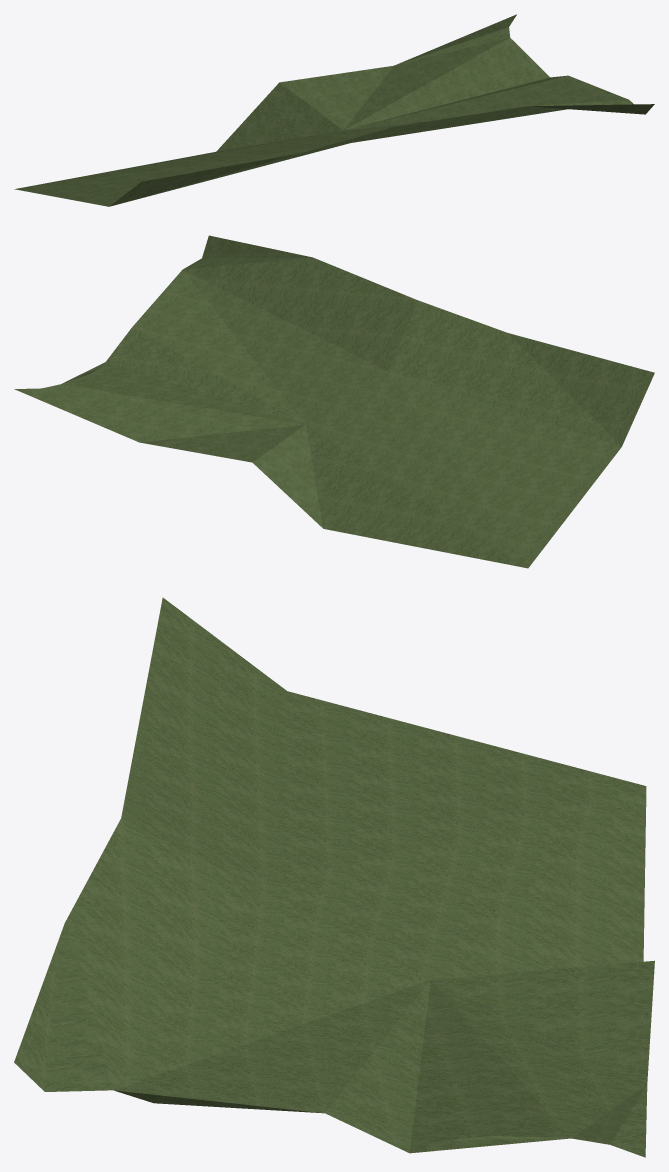
The model's file is LODa_carisle_mid_landmass_00_04.fbx.
The picture shows the model from 3 angles, top to bottom: view 1: azimuth 30°, elevation 25°; view 2: azimuth 150°, elevation 25°; view 3: azimuth 270°, elevation 25°; orthographic projection. The views are drawn at different scales.
Visible parts, largest first — view 1: LODa_carisle_mid_landmass_00_04; view 2: LODa_carisle_mid_landmass_00_04; view 3: LODa_carisle_mid_landmass_00_04.
Boxes of the visible parts, box(x1,y1,x2,y2) form: LODa_carisle_mid_landmass_00_04: box(14, 14, 654, 206); LODa_carisle_mid_landmass_00_04: box(14, 235, 654, 568); LODa_carisle_mid_landmass_00_04: box(14, 597, 654, 1157).
Size of the model in its own units: 61.48 by 35.24 by 13.58.
